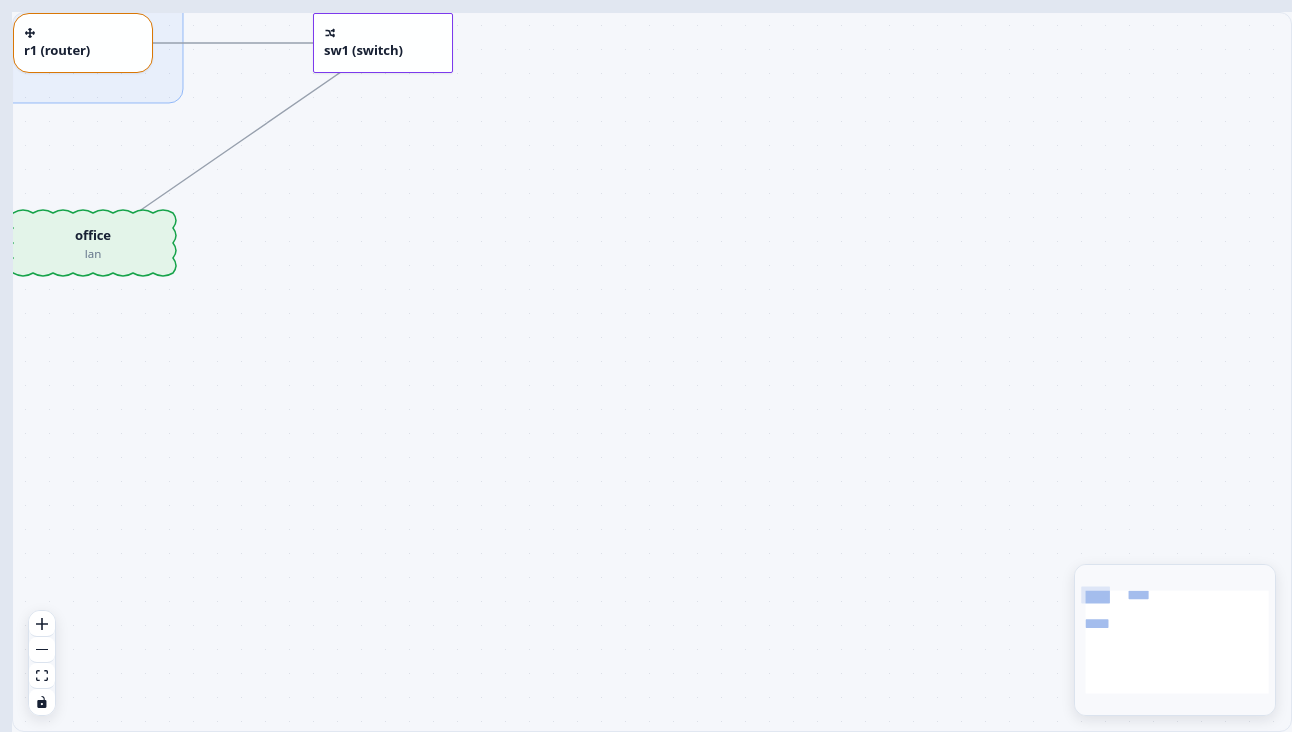
TopologyCanvas › opens network info with member subnet names and CIDRs
This screenshot has width=1292, height=732.
Click the element with test id "rf__node-network:office". click: coordinates (93, 243)
box: [13,213,173,273]
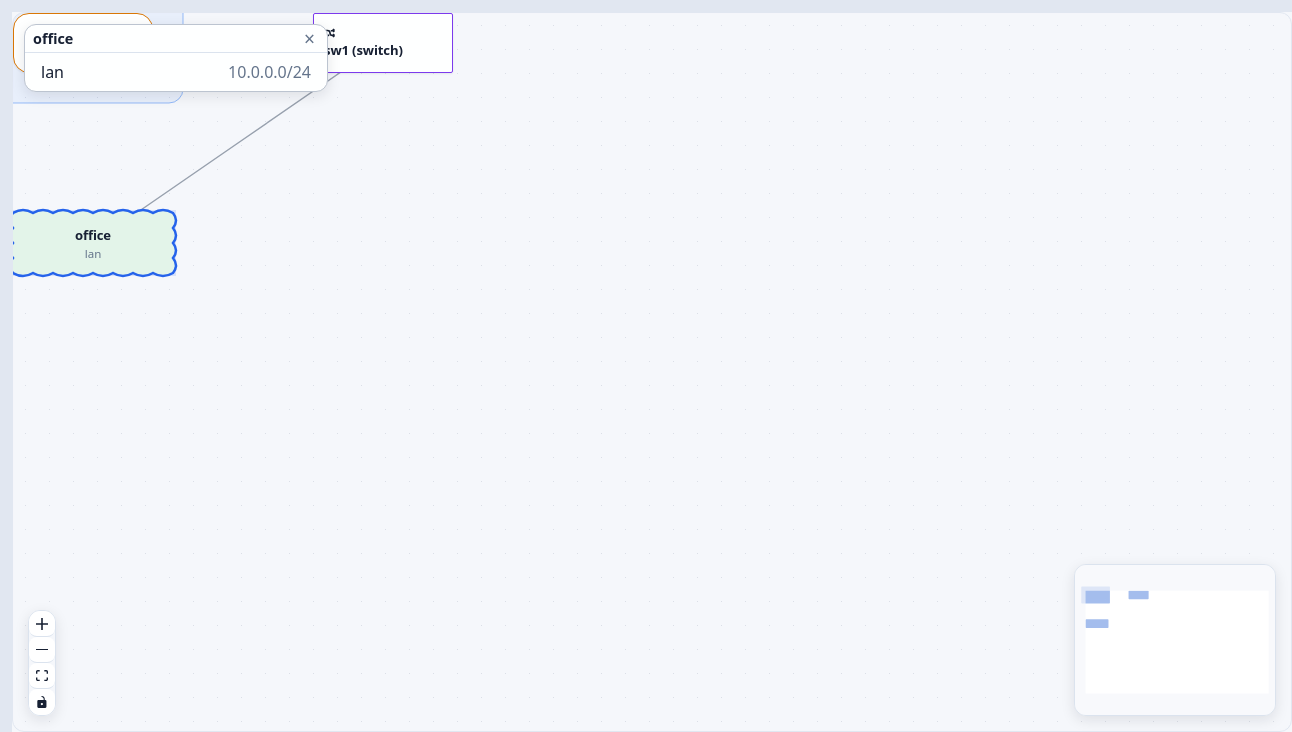
Check: the element with test id "network-info" shows "office", box [33,29,73,48]
Check: the element with test id "network-info" shows "lan", box [41,61,64,83]
Check: the element with test id "network-info" shows "10.0.0.0/24", box [228,61,311,83]
